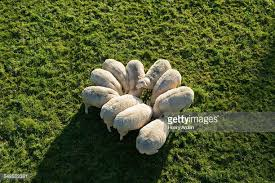sheep: (152, 89, 194, 125), (139, 113, 169, 157), (104, 57, 133, 100), (99, 95, 138, 126), (137, 58, 174, 89), (118, 103, 151, 137), (94, 68, 129, 98), (154, 69, 184, 102), (79, 85, 118, 109), (127, 58, 150, 94)
